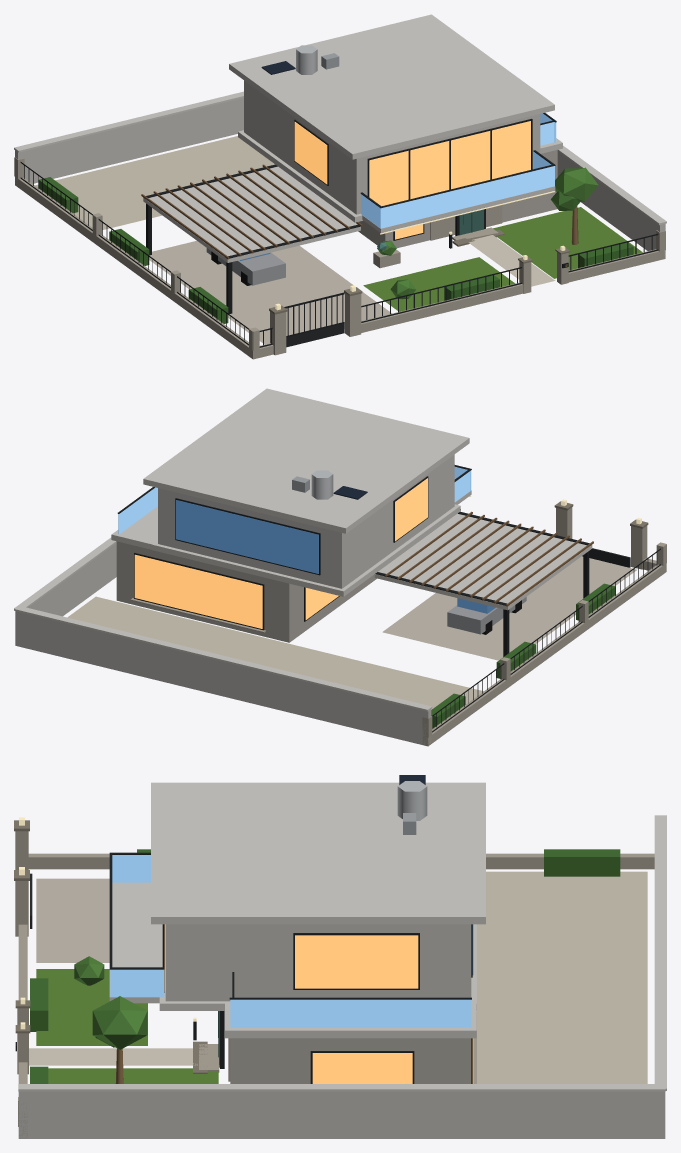
File: house-m1.glb
3 views of the same model, one above another, from view 1: azimuth 30°, elevation 25°; view 2: azimuth 150°, elevation 25°; view 3: azimuth 270°, elevation 25° (orthographic). The views are drawn at different scales.
Bounding box in the file's own units: 22.08 × 7.95 × 22.22.
